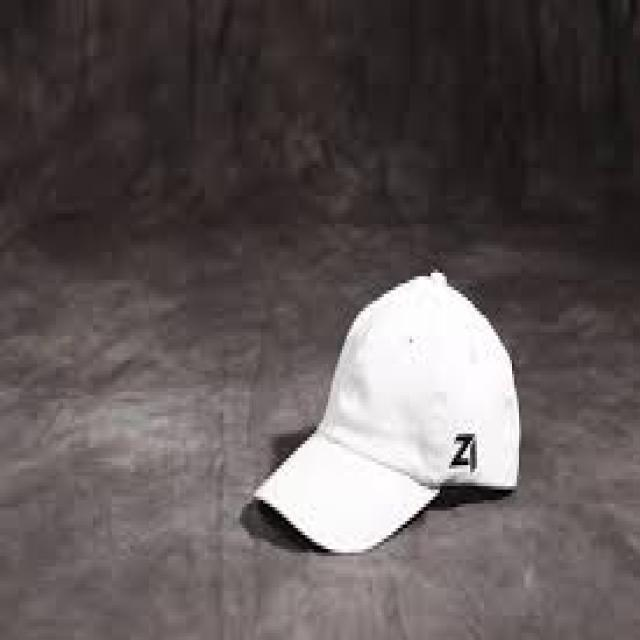cap: (256, 254, 530, 569)
